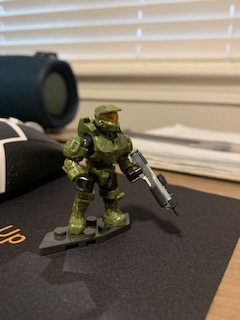chief: (59, 103, 140, 237)
rifle: (129, 149, 179, 215)
spartan: (57, 101, 138, 235)
